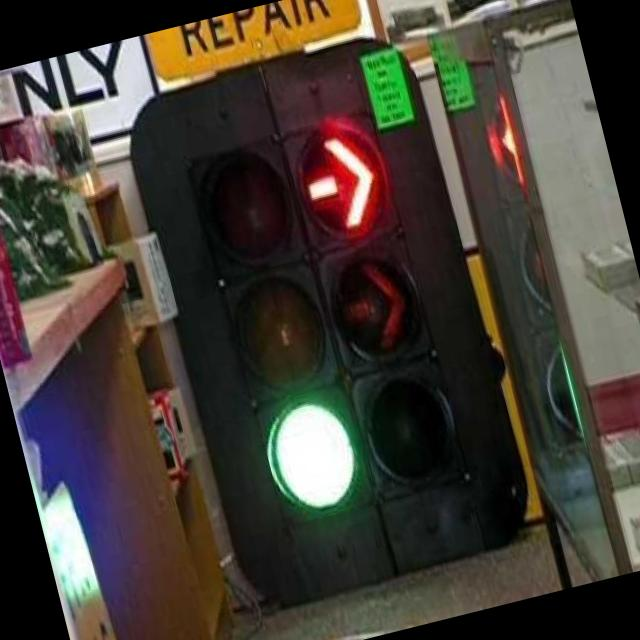green-lights: (187, 346, 413, 546)
